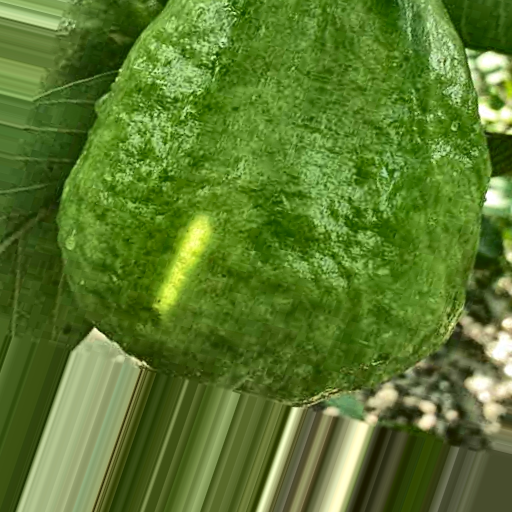guava: (55, 33, 448, 447)
